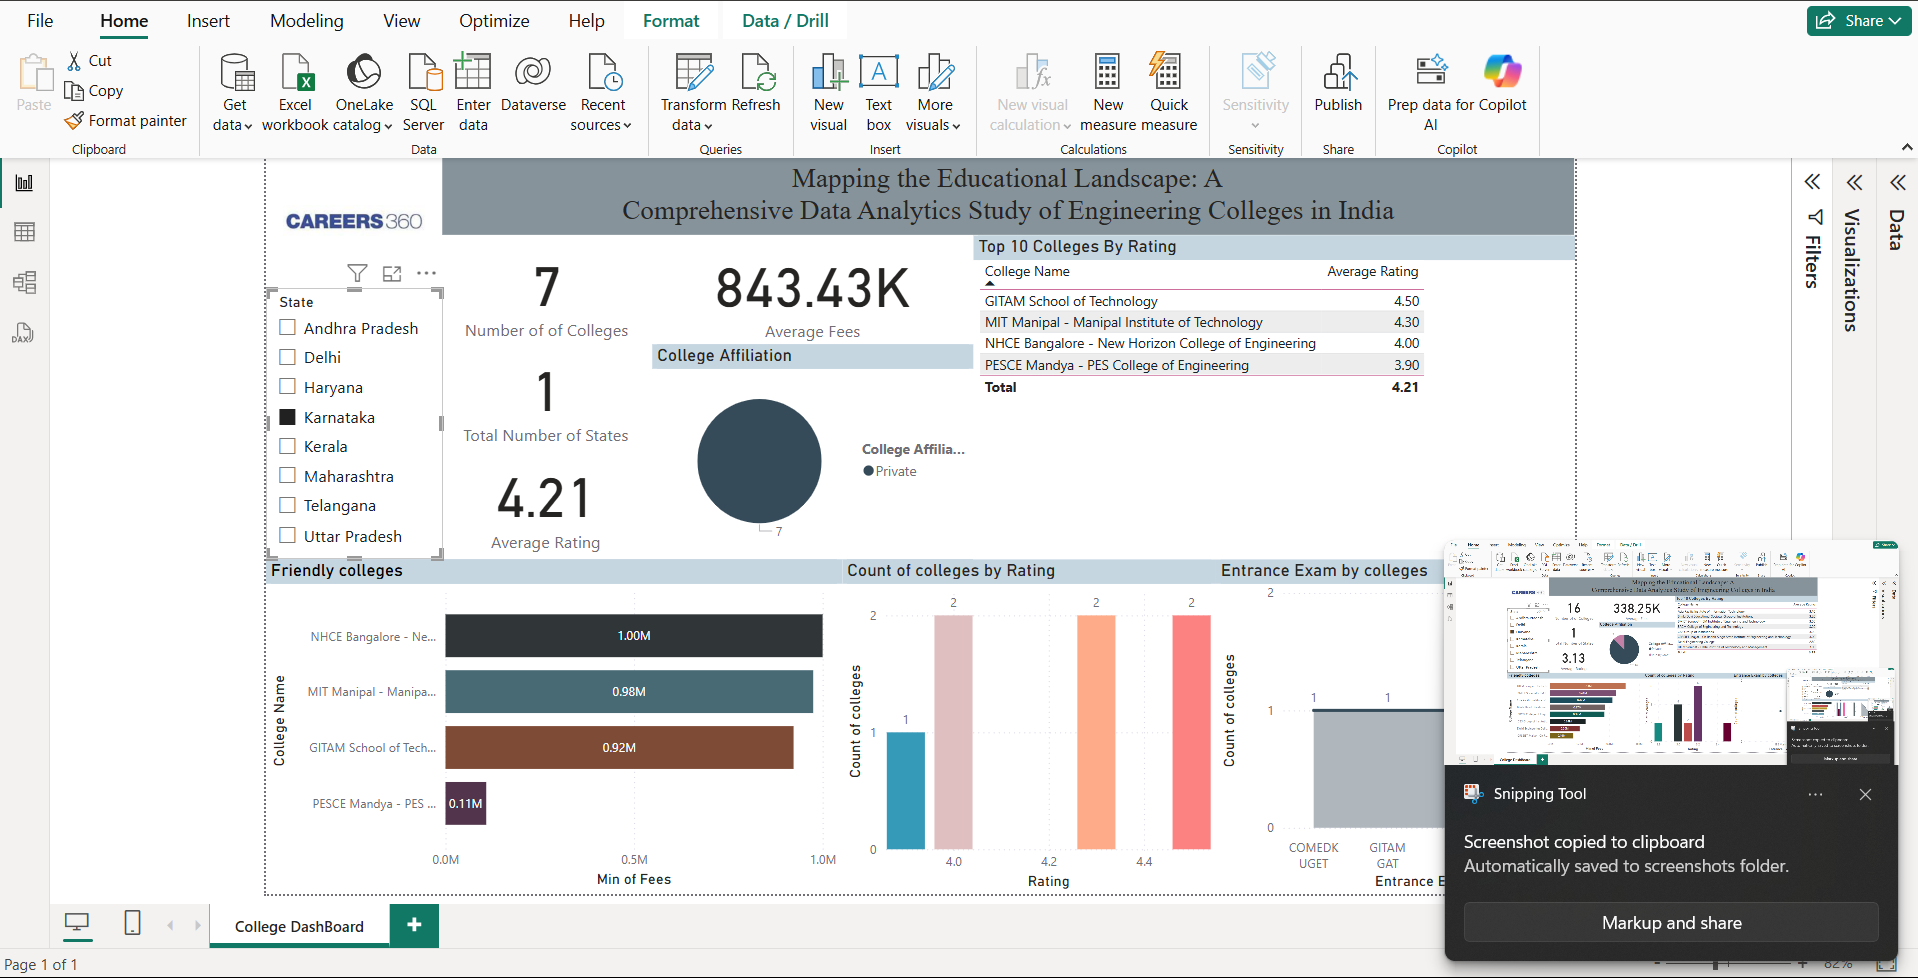

The page's visual inventory and layout, read from the dashboard file:
{"tool":"powerbi","page":{"name":"College DashBoard","canvas":[1280,720],"ordinal":0},"visuals":[{"type":"card","fields":{"Values":["Sheet.Average_Fees"]},"box":[377.4,75.5,314.2,109.8],"z":0},{"type":"card","fields":{"Values":["College_data.Count_ccolleges"]},"box":[172.4,75.8,204.2,107.6],"z":1000},{"type":"card","fields":{"Values":["College_data.no_stares"]},"box":[172.9,182.5,203.1,100.2],"z":2000},{"type":"slicer","fields":{"Values":["College_data.State"]},"box":[0,127.6,172.9,264.8],"z":3000},{"type":"textbox","box":[172.9,0,1107.4,75.5],"z":4000},{"type":"pieChart","title":"College Affiliation","fields":{"Category":["College_data.College Affiliation"],"Y":["College_data.Number of of Colleges"]},"box":[377.4,182.5,314.2,209.9],"z":5000},{"type":"card","fields":{"Values":["College_data.Average Rating"]},"box":[172.9,282.7,203.1,108.4],"z":6000},{"type":"columnChart","title":"Count of colleges by Rating","fields":{"Category":["Sheet.Rating"],"Y":["CountNonNull(Sheet.College Name)"],"Series":["Sheet.Rating"]},"box":[563.7,392.5,365.6,327.7],"z":7000},{"type":"barChart","title":"Friendly colleges","fields":{"Category":["College_data.College Name"],"Series":["College_data.College Name"],"Y":["Min(College_data.Fees)"]},"box":[0,392.5,563.7,326.5],"z":8000},{"type":"stackedAreaChart","title":"Entrance Exam by colleges","fields":{"Category":["Sheet.Entrance Exam"],"Y":["Count(College_data.College Name)"]},"box":[929.4,392.5,351,327.7],"z":9000},{"type":"image","box":[0,0,172.4,122.3],"z":10000},{"type":"tableEx","title":"Top 10 Colleges By Rating","fields":{"Values":["College_data.College Name","College_data.Average Rating"]},"box":[691.6,75.5,588.7,317],"z":11000}]}

Visuals, with their boxes on the page's 1280x720 design canvas (x1, y1, x2, y2). These are canvas units, not pixel positions in the 1918x978 screenshot, which may show the page scaled, cropped or inside an application window:
card - Sheet.Average_Fees: 377 76 692 185
card - College_data.Count_ccolleges: 172 76 377 183
card - College_data.no_stares: 173 182 376 283
slicer - College_data.State: 0 128 173 392
textbox: 173 0 1280 76
"College Affiliation" pieChart: 377 182 692 392
card - College_data.Average Rating: 173 283 376 391
"Count of colleges by Rating" columnChart: 564 392 929 720
"Friendly colleges" barChart: 0 392 564 719
"Entrance Exam by colleges" stackedAreaChart: 929 392 1280 720
image: 0 0 172 122
"Top 10 Colleges By Rating" tableEx: 692 76 1280 392
